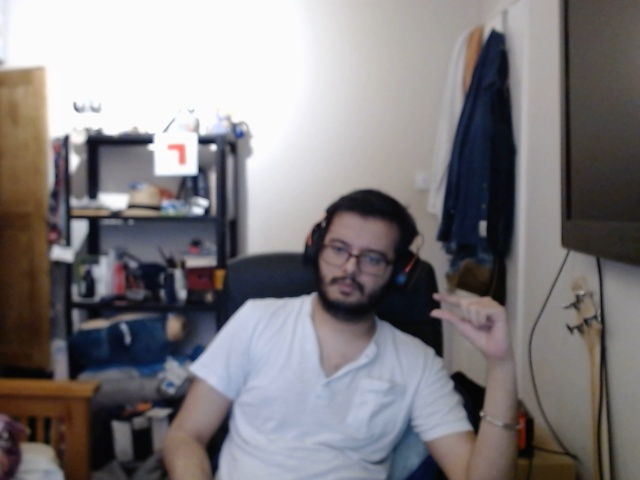Small: (423, 288, 524, 366)
